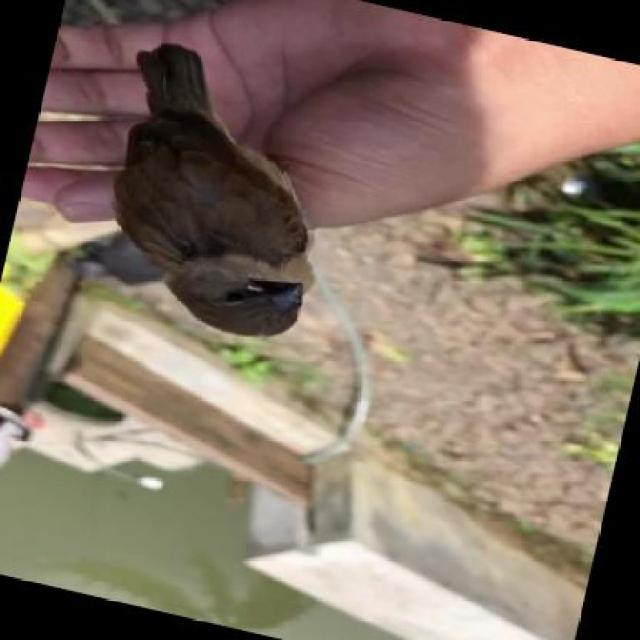Bird: (112, 33, 337, 385)
